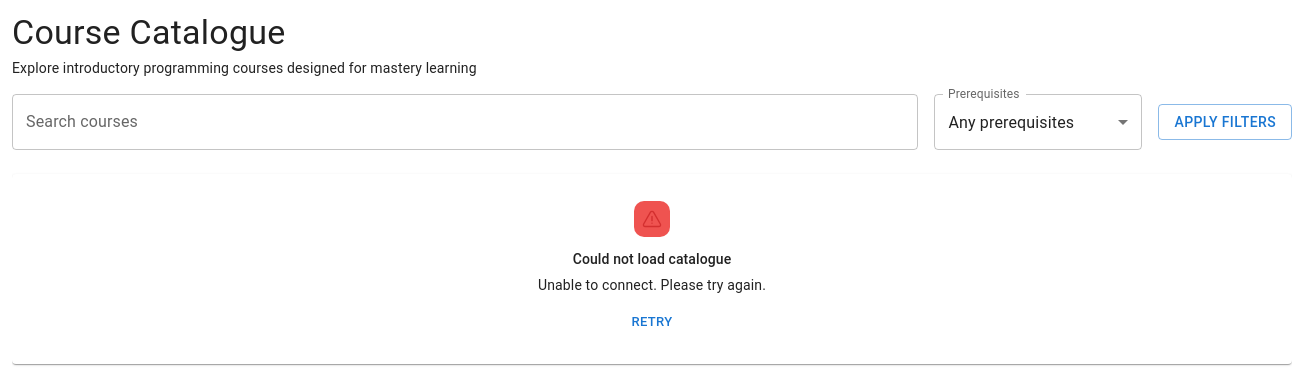
Test: catalogue page on the merged client contract › renders empty results and permits an explicit retry after safe errors
Click the button "Retry": (652, 322) [620,307,684,337]
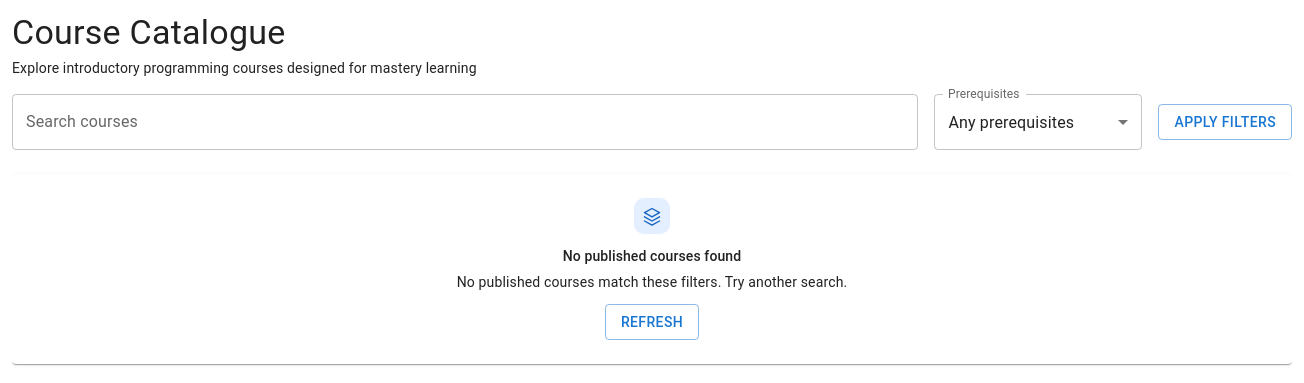
Expected: the text "No published courses found" is shown, [563,246,741,268]
